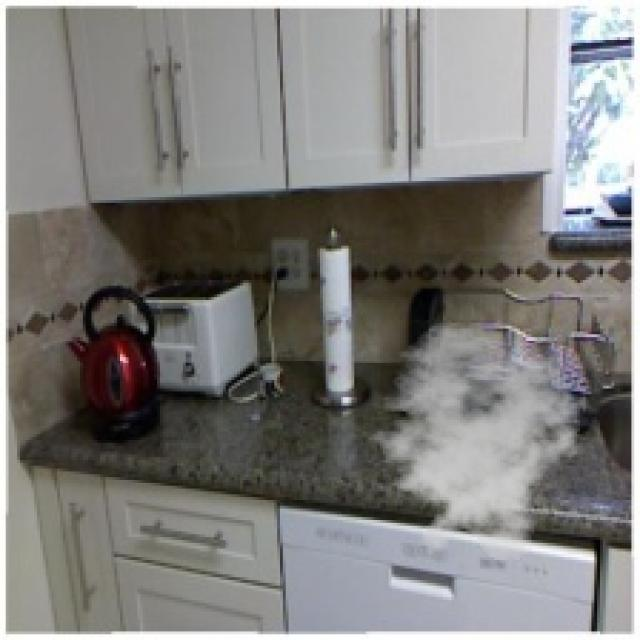smoke: (357, 320, 594, 563)
